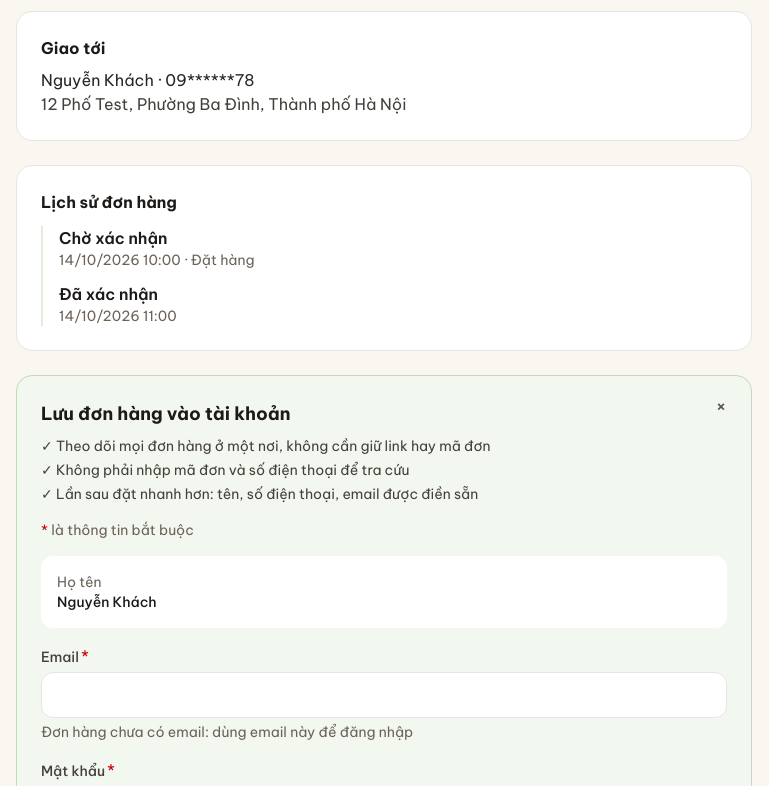
Scenario: TrackOrderPage › asks for an email when the order has none, and can be dismissed
(page scrolled)
Check: the heading "Lưu đơn hàng vào tài khoản" is shown, box [41,402,290,424]
Check: the field labelled "Email" is shown, box [41,672,727,718]
Click the button named "Đóng lời mời tạo tài khoản" at (721, 406), box [703,388,739,424]
(page scrolled)
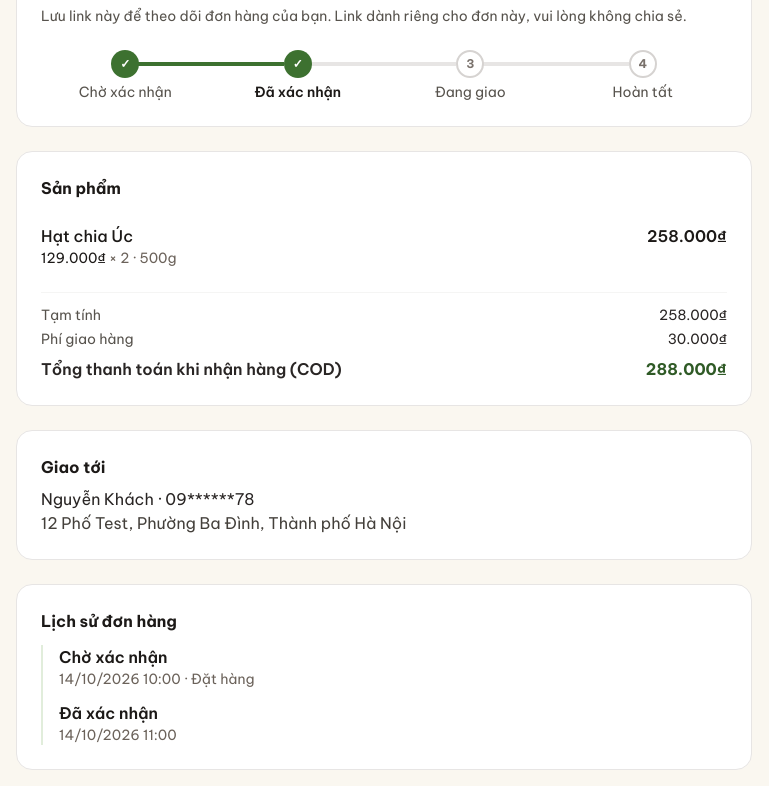
Check: the heading "Lưu đơn hàng vào tài khoản" is gone
